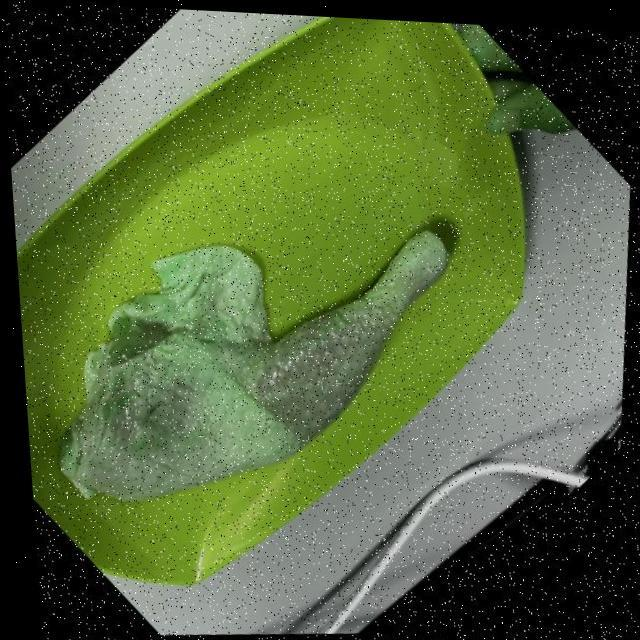quater: (53, 208, 452, 514)
